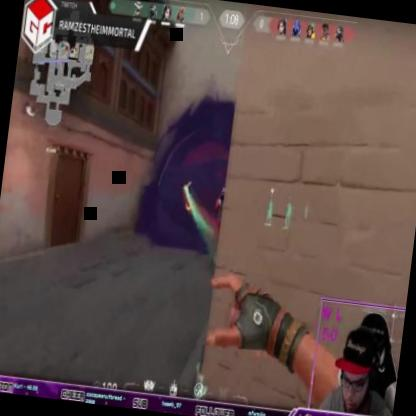enemy: (204, 185, 234, 272)
enemy_head: (220, 187, 226, 200)
